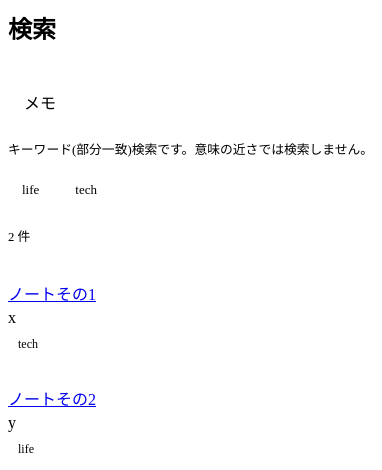
Scenario: SearchPage › 結果由来のフィルタでクライアント側絞り込みができる
Expected: the link "ノートその1" is shown, [8,286,96,303]
Click the button "life" at (31,190), box [8,174,53,206]
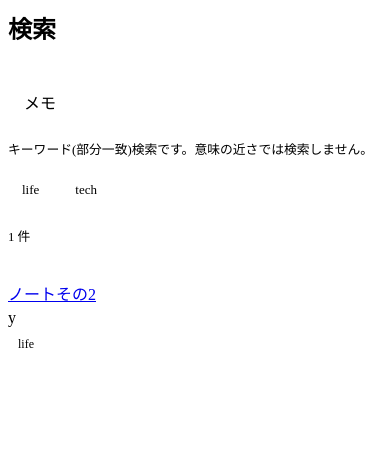
Expected: the link "ノートその2" is shown, [8,286,96,303]
Expected: the link "ノートその1" is gone
